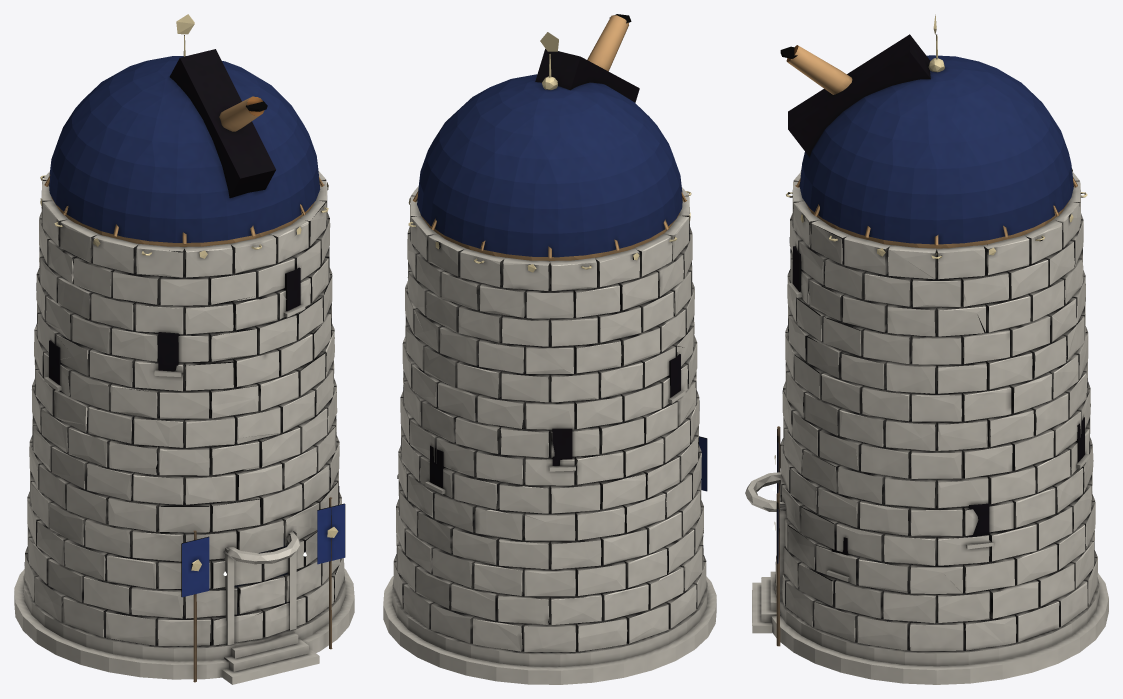
Rendered from astralia_observatorio.glb.
The picture shows the model from 3 angles, left to right: view 1: azimuth 30°, elevation 25°; view 2: azimuth 150°, elevation 25°; view 3: azimuth 270°, elevation 25°; orthographic projection. The views are drawn at different scales.
Visible parts, largest first — view 1: astralia_observatorio_tronco; view 2: astralia_observatorio_tronco; view 3: astralia_observatorio_tronco.
Boxes of the visible parts, <box> form: astralia_observatorio_tronco: <box>14,14,354,684</box>; astralia_observatorio_tronco: <box>383,14,716,684</box>; astralia_observatorio_tronco: <box>745,14,1108,684</box>.
Bounding box in the file's own units: 7.4 × 14.2 × 7.82.
3 materials, 1 textured.
